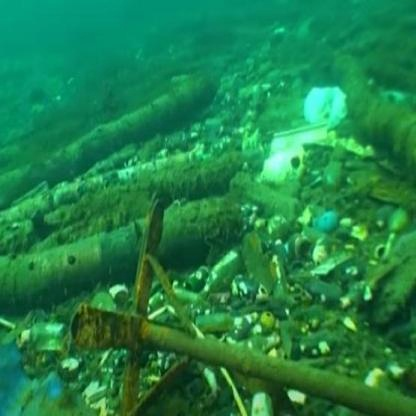rod: (91, 297, 399, 416), (5, 212, 259, 298), (54, 143, 260, 224), (57, 79, 246, 164)
